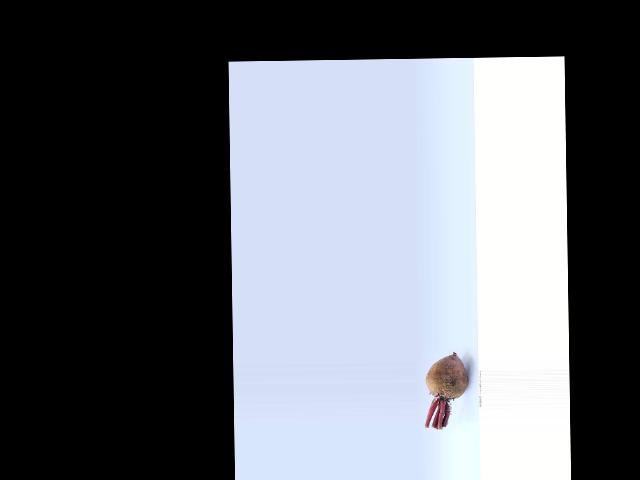beet: (425, 353, 468, 428)
